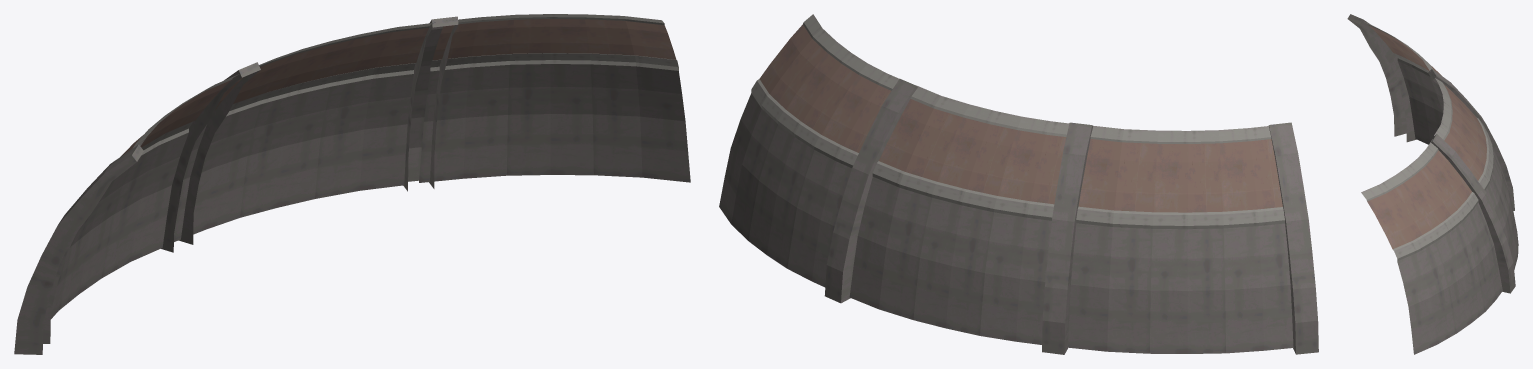
The model's file is SM_ENV_TCHEXA_ArenaWall_D.fbx.
The picture shows the model from 3 angles, left to right: view 1: azimuth 30°, elevation 25°; view 2: azimuth 150°, elevation 25°; view 3: azimuth 270°, elevation 25°; orthographic projection. The views are drawn at different scales.
Parts seen in each view (by area): view 1: SM_ENV_TCHEXA_ArenaWall_D.mo; view 2: SM_ENV_TCHEXA_ArenaWall_D.mo; view 3: SM_ENV_TCHEXA_ArenaWall_D.mo.
Part boxes in pixels (x1,y1,x2,y2): SM_ENV_TCHEXA_ArenaWall_D.mo: (14,14,690,354); SM_ENV_TCHEXA_ArenaWall_D.mo: (719,14,1318,354); SM_ENV_TCHEXA_ArenaWall_D.mo: (1347,14,1518,354).
Bounding box in the file's own units: 11494 × 3436 × 3711.
